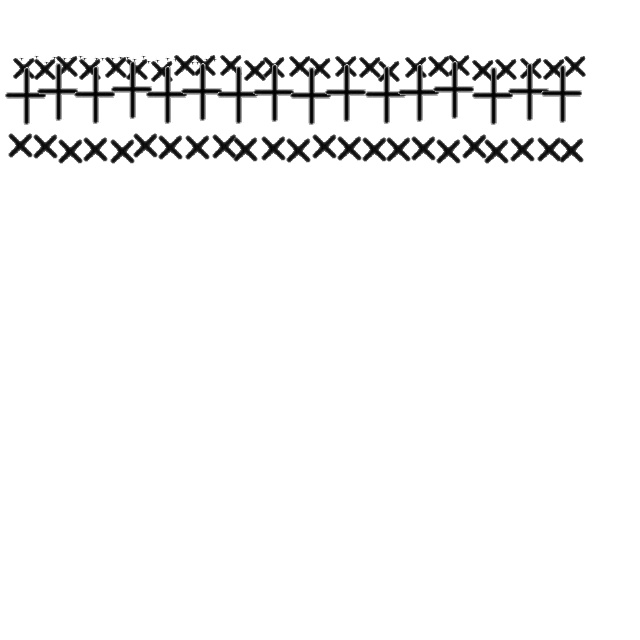double: (71, 66, 117, 126), (143, 66, 189, 126), (214, 66, 260, 126), (250, 64, 296, 124), (322, 64, 368, 124), (362, 66, 408, 126), (395, 64, 441, 124), (2, 68, 48, 126), (34, 64, 80, 122), (108, 62, 154, 120), (178, 64, 224, 122), (287, 68, 333, 126), (430, 62, 476, 120), (469, 68, 515, 126), (505, 64, 551, 122), (538, 66, 584, 124), (210, 130, 240, 162), (284, 134, 314, 166), (310, 130, 340, 162), (460, 130, 490, 162), (6, 130, 36, 160), (56, 136, 86, 166), (108, 136, 138, 166), (156, 132, 186, 162), (360, 134, 390, 164), (384, 134, 414, 164), (434, 136, 464, 166), (482, 136, 512, 166), (508, 134, 538, 164), (32, 130, 60, 162), (260, 132, 288, 164), (336, 132, 364, 164), (410, 132, 438, 164), (558, 134, 586, 166), (82, 134, 110, 164), (132, 130, 160, 160), (184, 132, 212, 162), (232, 134, 260, 164), (536, 134, 564, 164), (11, 54, 37, 82), (54, 52, 80, 80), (242, 56, 268, 84), (287, 52, 313, 80), (307, 54, 333, 82), (333, 52, 359, 80), (426, 52, 452, 80), (470, 56, 496, 84), (518, 54, 544, 82), (562, 52, 588, 80), (32, 56, 58, 82), (77, 56, 103, 82), (103, 54, 129, 80), (124, 56, 150, 82), (149, 58, 175, 84), (172, 52, 198, 78), (192, 52, 218, 78), (218, 52, 244, 78), (261, 54, 287, 80), (357, 54, 383, 80), (376, 58, 402, 84), (403, 54, 429, 80), (446, 52, 472, 78), (493, 56, 519, 82), (541, 56, 567, 82), (34, 54, 40, 60), (44, 60, 50, 66), (62, 56, 68, 62), (78, 54, 84, 60), (82, 56, 88, 62), (94, 56, 100, 62), (100, 56, 106, 62), (110, 56, 116, 62), (190, 60, 196, 66), (20, 56, 24, 62), (30, 58, 36, 62), (52, 56, 58, 60), (70, 56, 74, 62), (118, 56, 124, 60), (132, 58, 138, 62), (142, 54, 146, 60), (146, 60, 152, 64), (156, 58, 160, 64), (166, 56, 170, 62), (178, 60, 184, 64), (196, 60, 200, 66), (204, 58, 210, 62), (212, 58, 218, 62), (126, 56, 130, 60), (174, 58, 178, 62)
